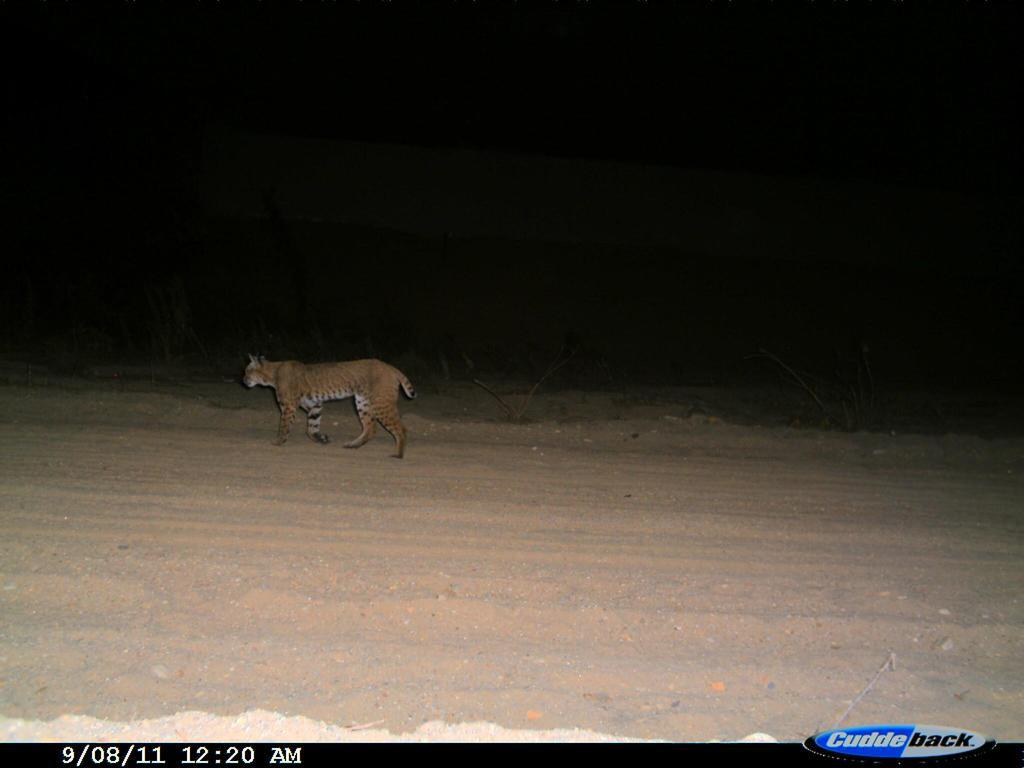bobcat: (231, 340, 433, 470)
